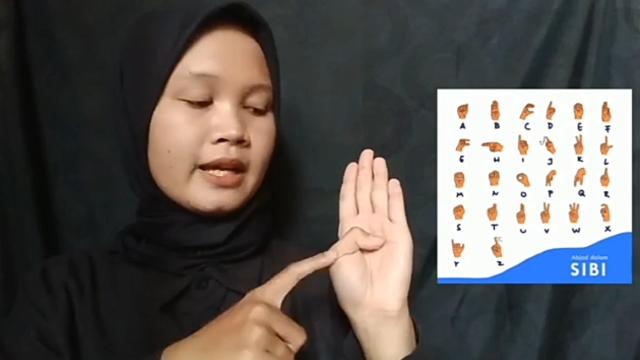B: (330, 148, 414, 320)
